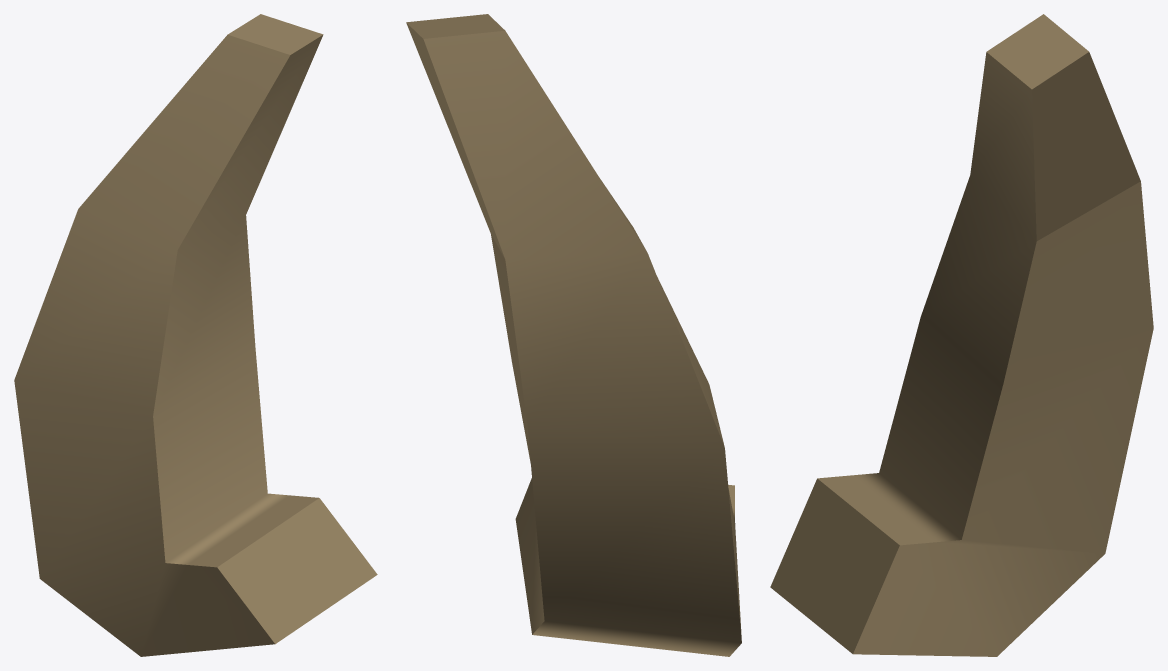
File: Boar_Horn_Left.fbx
The picture shows the model from 3 angles, left to right: view 1: azimuth 30°, elevation 25°; view 2: azimuth 150°, elevation 25°; view 3: azimuth 270°, elevation 25°; orthographic projection. The views are drawn at different scales.
Parts seen in each view (by area): view 1: Boar_Horn_Left; view 2: Boar_Horn_Left; view 3: Boar_Horn_Left.
Boxes of the visible parts, x1,y1,x2,y2 form: Boar_Horn_Left: (14, 14, 377, 656); Boar_Horn_Left: (406, 14, 741, 656); Boar_Horn_Left: (770, 14, 1153, 656).
Size of the model in its own units: 23.41 by 41.88 by 22.11.
